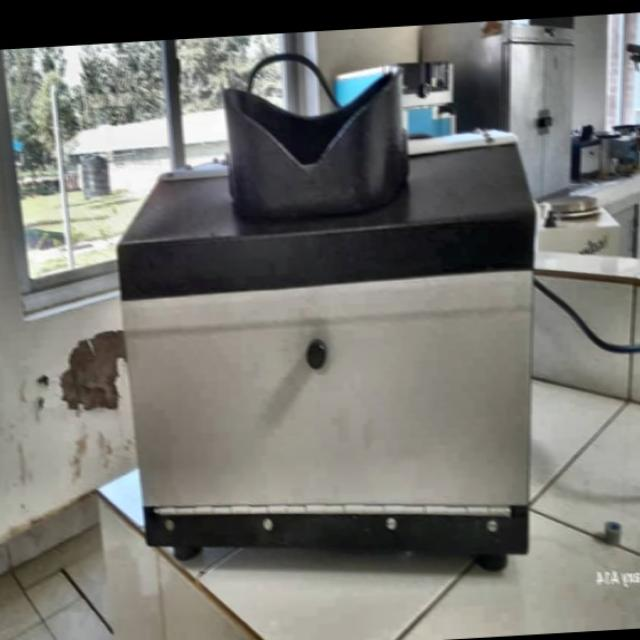U.V Cabinet: (113, 59, 540, 580)
